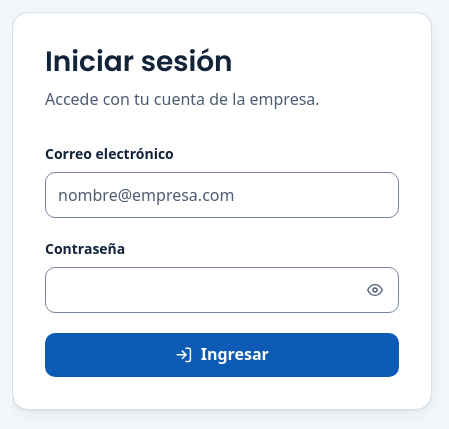
stores the token and navigates to the dashboard on success
This screenshot has width=449, height=429.
Type "ana@example.com" into the field labelled "Correo electrónico" at (222, 195), box [45,172,399,218]
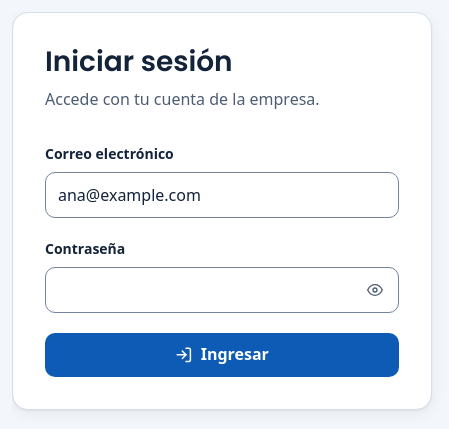
Type "secret-pass" into the password field labelled "Contraseña" at (222, 290), box [45,267,399,313]
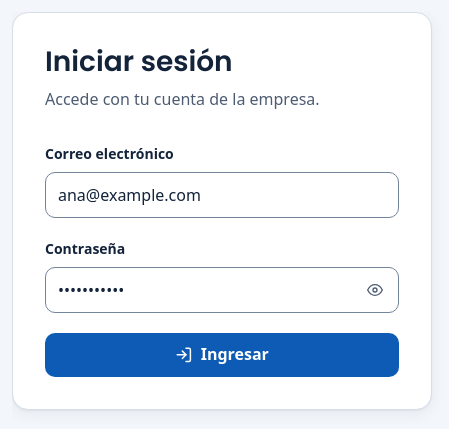
Click the button "Ingresar" at (222, 355), box [45,333,399,377]
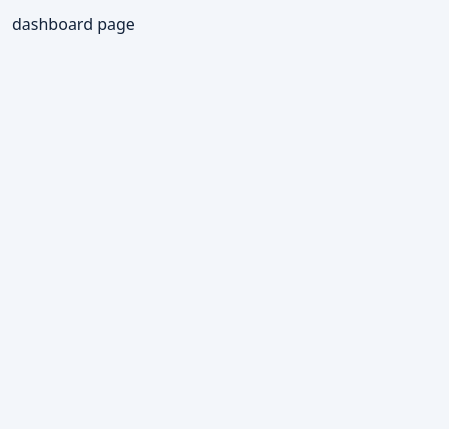
Check: the text "dashboard page" is shown, box [12,13,135,35]
